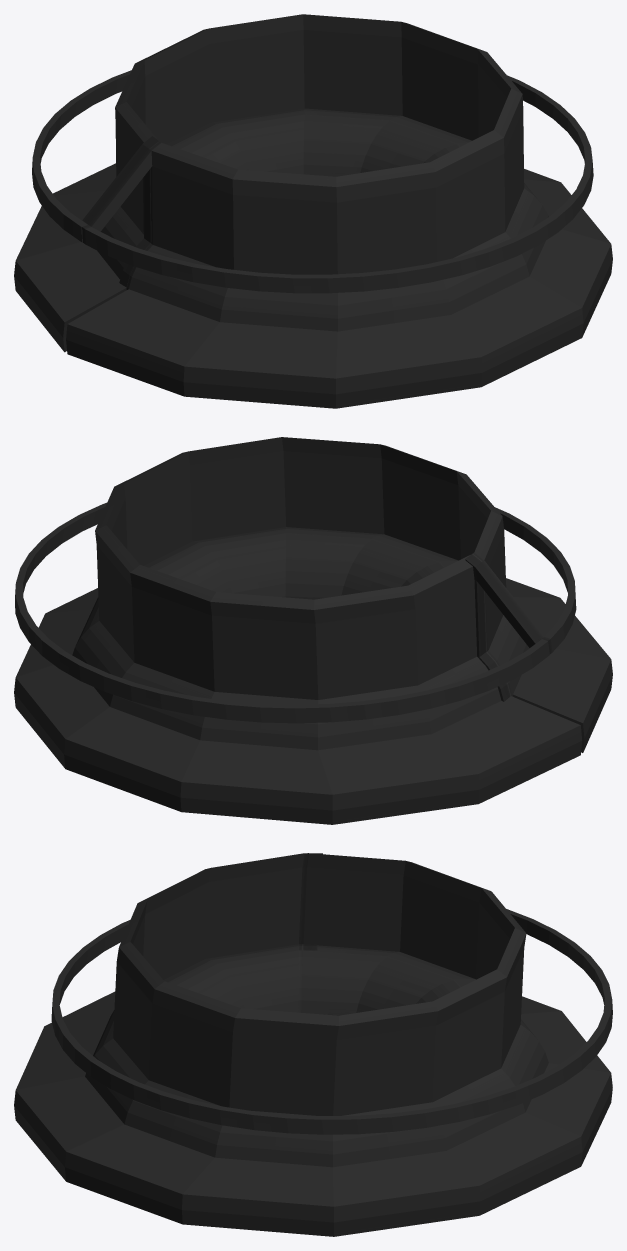
The model's file is drop_tower_seat.obj.
3 views of the same model, one above another, from view 1: azimuth 30°, elevation 25°; view 2: azimuth 150°, elevation 25°; view 3: azimuth 270°, elevation 25° (orthographic).
Visible parts, largest first — view 1: Cylinder.002; view 2: Cylinder.002; view 3: Cylinder.002.
Part boxes in pixels (<box>): Cylinder.002: <box>14,14,612,408</box>; Cylinder.002: <box>14,437,612,824</box>; Cylinder.002: <box>14,853,612,1236</box>.
Bounding box in the file's own units: 6.2 × 2.37 × 6.2.
Materials: 1 (1 with a texture image).
